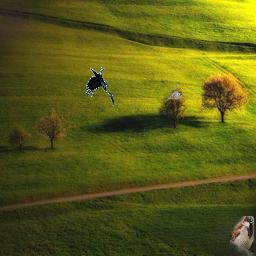Crow: (85, 67, 114, 107)
Sparrow: (230, 216, 254, 256), (166, 88, 182, 100)
